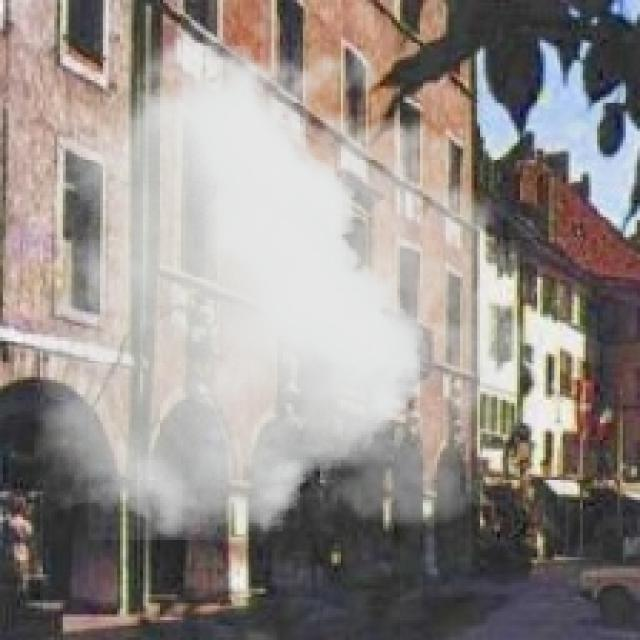Smoke: (34, 14, 560, 540)
